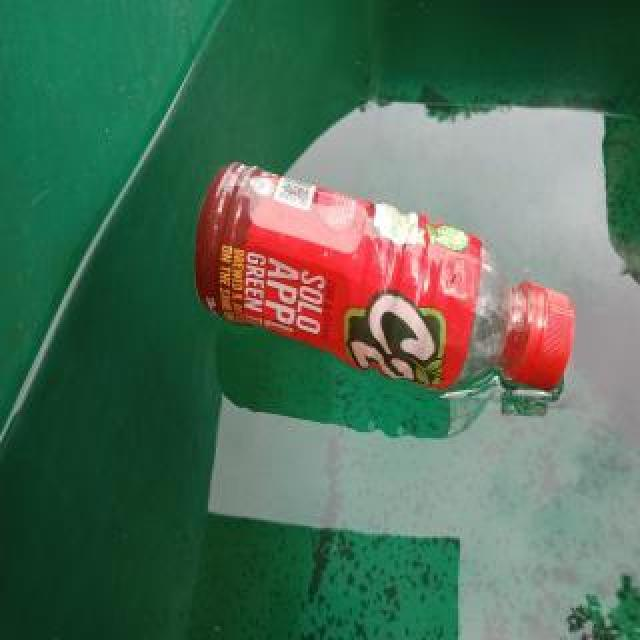bottle: (194, 160, 576, 394)
